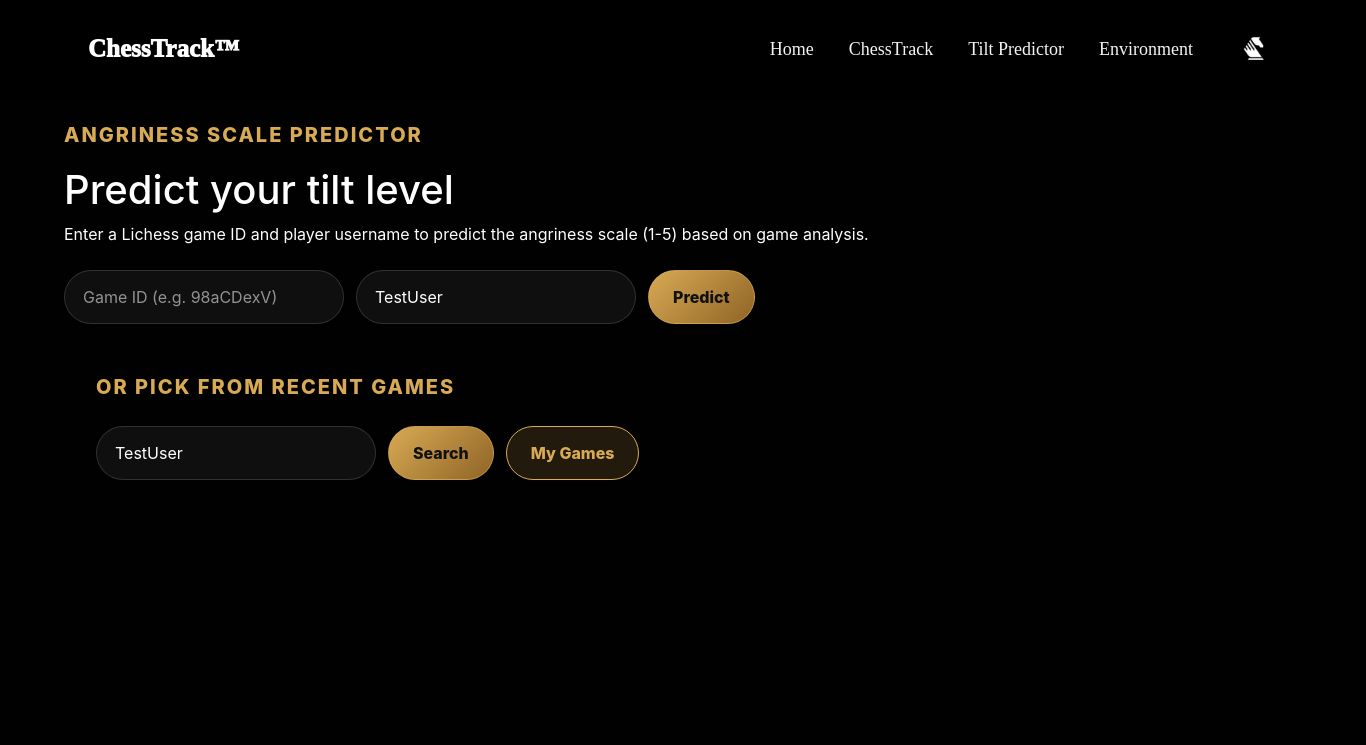
AngrinessPredictor — ML API flow › posts game prediction to /predictions/angriness/lichess and renders result
This screenshot has width=1366, height=745.
Type "abc12345" into the field with placeholder "Game ID (e.g. 98aCDexV)". click: (204, 297)
box: [64, 270, 344, 324]
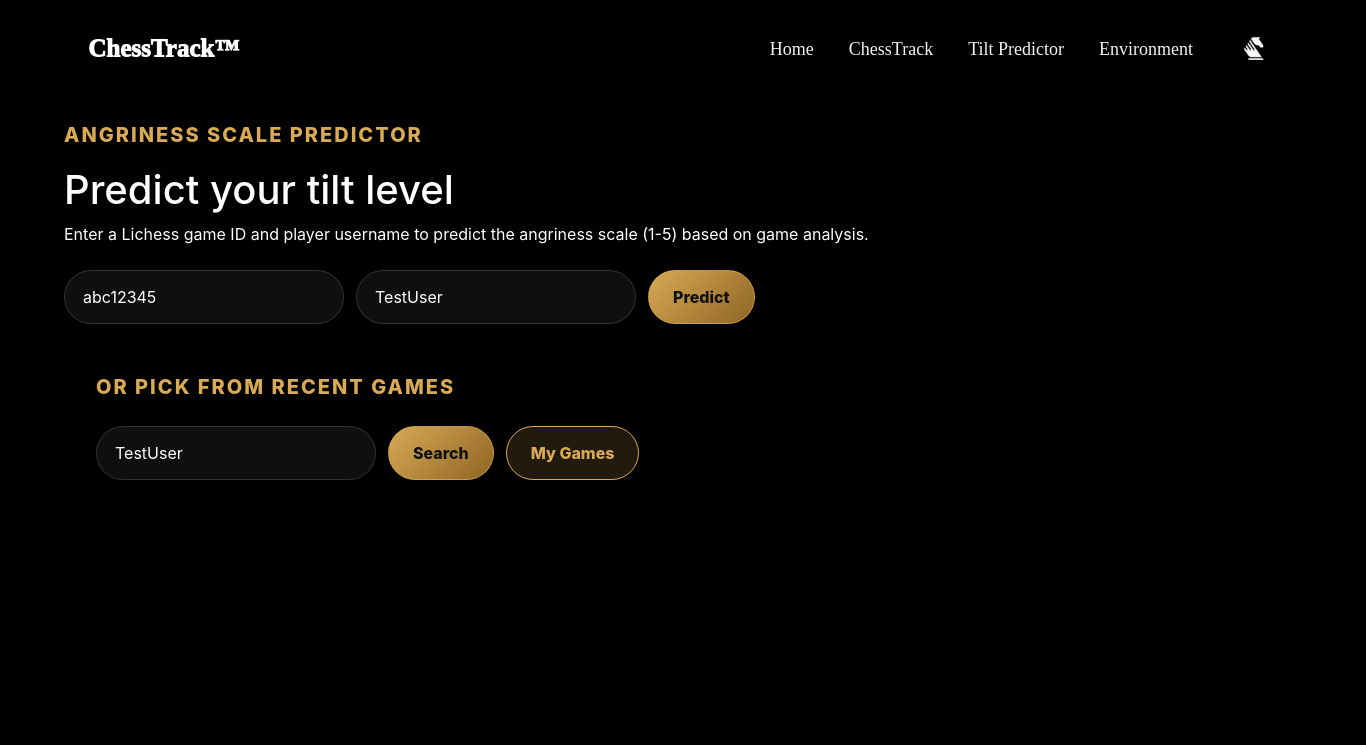
Replace the text in the 2nd field with placeholder "Player username" with "Magnus". click: (496, 297)
box: [356, 270, 636, 324]
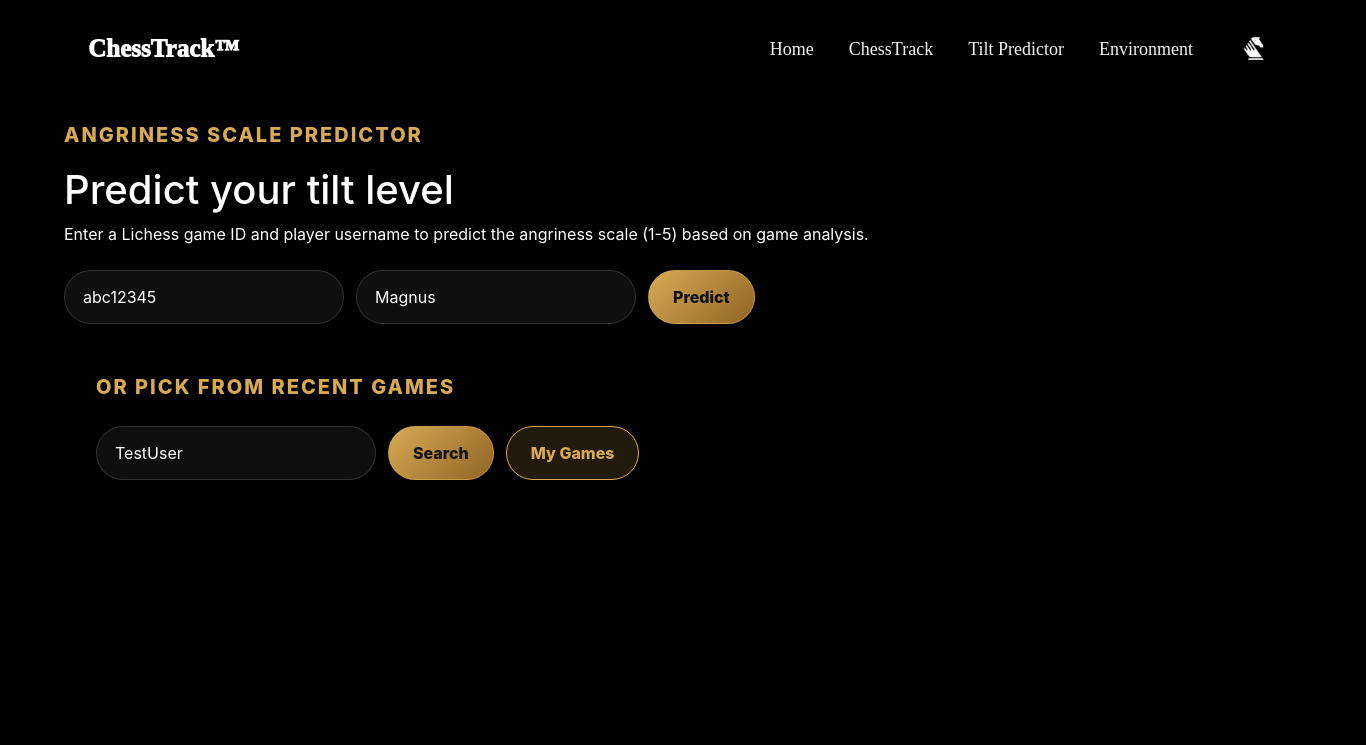
Click the button "Predict". click: (701, 297)
box: [648, 270, 755, 324]
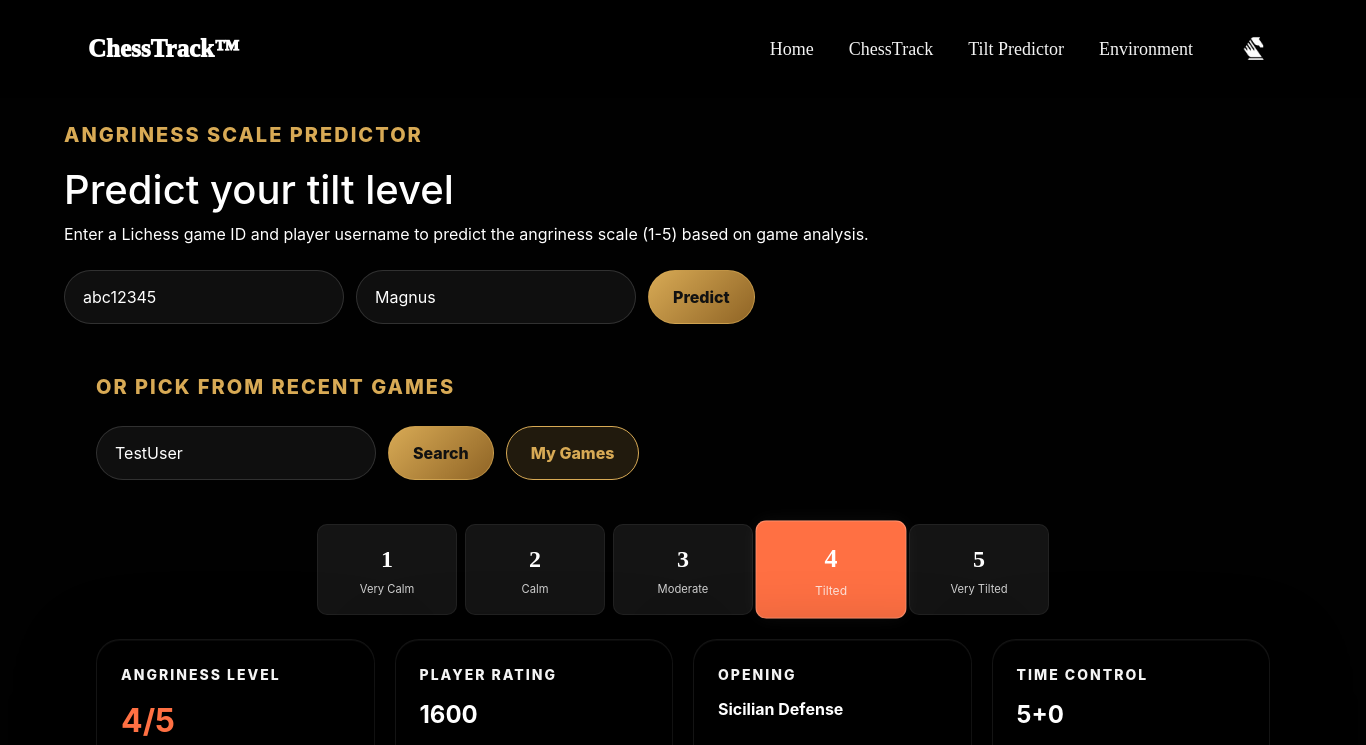
Now the text "4/5" is shown, box [121, 701, 175, 740]
Now the text "Sicilian Defense" is shown, box [718, 699, 843, 719]
